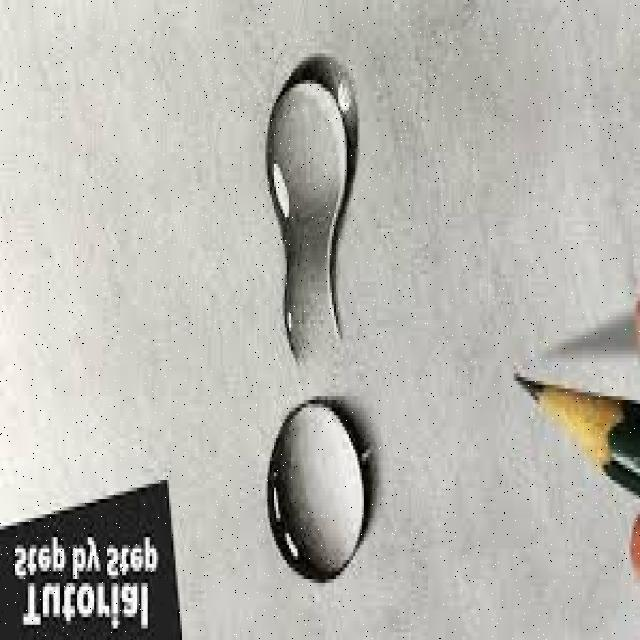raindrop: (257, 37, 381, 375), (264, 390, 386, 596)
